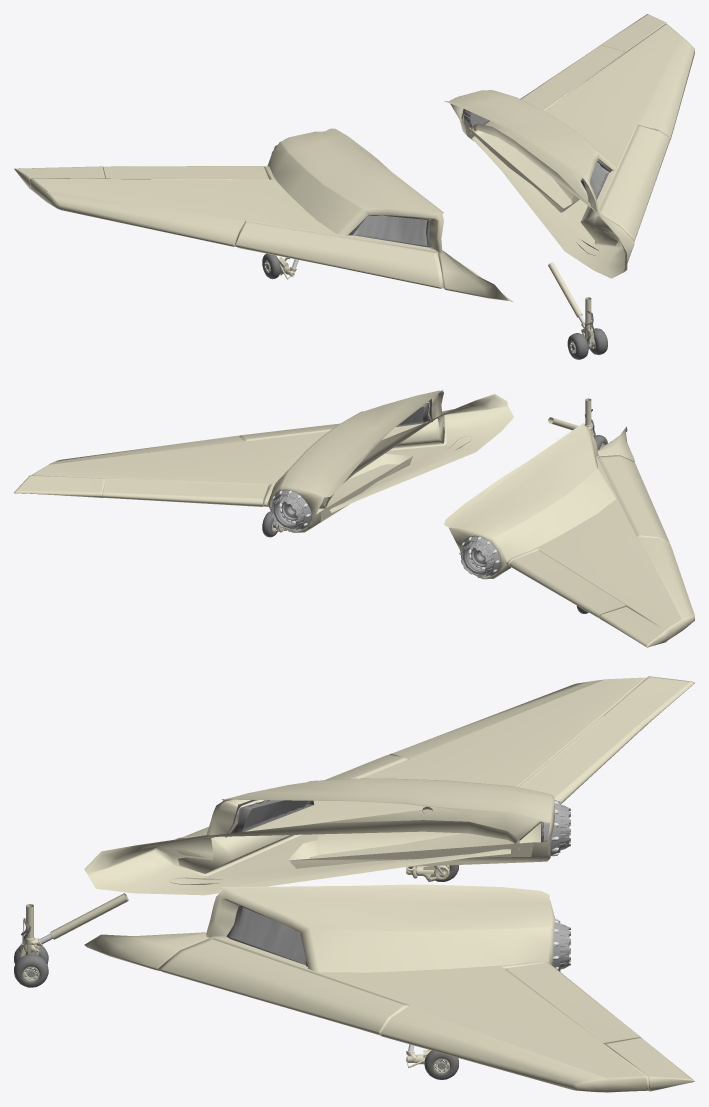
File: AircraftWingsJet.fbx
The picture shows the model from 3 angles, top to bottom: view 1: azimuth 30°, elevation 25°; view 2: azimuth 150°, elevation 25°; view 3: azimuth 270°, elevation 25°; orthographic projection. The views are drawn at different scales.
Parts seen in each view (by area): view 1: AircraftWingsJetWing, AircraftWingsJetSlatRight, AircraftWingsJetSlatLeft, AircraftWingsJetFlapLeft, AircraftWingsJetFlapRight, AircraftWingsJetAileronLeft, AircraftWingsJetAileronRight, AircraftWingsJetGearFront, AircraftWingsJetGearWheelFront; view 2: AircraftWingsJetWing, AircraftWingsJetFlapLeft, AircraftWingsJetFlapRight, AircraftWingsJetSlatRight, AircraftWingsJetAileronLeft, AircraftWingsJetAileronRight, AircraftWingsJetSlatLeft, AircraftWingsJetGearFront; view 3: AircraftWingsJetWing, AircraftWingsJetSlatLeft, AircraftWingsJetFlapRight, AircraftWingsJetFlapLeft, AircraftWingsJetSlatRight, AircraftWingsJetAileronRight, AircraftWingsJetAileronLeft, AircraftWingsJetGearFront, AircraftWingsJetGearWheelFront, AircraftWingsJetGearWheelLeft.
Part boxes in pixels (bbox=[...]): AircraftWingsJetWing: bbox=[30, 23, 694, 302]; AircraftWingsJetSlatRight: bbox=[235, 221, 443, 288]; AircraftWingsJetSlatLeft: bbox=[580, 125, 669, 245]; AircraftWingsJetFlapLeft: bbox=[520, 45, 625, 110]; AircraftWingsJetFlapRight: bbox=[102, 166, 269, 179]; AircraftWingsJetAileronLeft: bbox=[600, 14, 666, 51]; AircraftWingsJetAileronRight: bbox=[14, 166, 105, 189]; AircraftWingsJetGearFront: bbox=[548, 262, 594, 349]; AircraftWingsJetGearWheelFront: bbox=[567, 328, 607, 359]; AircraftWingsJetWing: bbox=[32, 389, 694, 640]; AircraftWingsJetFlapLeft: bbox=[102, 478, 268, 506]; AircraftWingsJetFlapRight: bbox=[509, 550, 625, 618]; AircraftWingsJetSlatRight: bbox=[598, 455, 669, 543]; AircraftWingsJetAileronLeft: bbox=[14, 475, 105, 497]; AircraftWingsJetAileronRight: bbox=[599, 605, 666, 647]; AircraftWingsJetSlatLeft: bbox=[239, 418, 444, 448]; AircraftWingsJetGearFront: bbox=[548, 398, 595, 435]; AircraftWingsJetWing: bbox=[84, 677, 649, 1092]; AircraftWingsJetSlatLeft: bbox=[157, 938, 408, 1035]; AircraftWingsJetFlapRight: bbox=[518, 716, 643, 804]; AircraftWingsJetFlapLeft: bbox=[505, 962, 640, 1043]; AircraftWingsJetSlatRight: bbox=[177, 755, 408, 873]; AircraftWingsJetAileronRight: bbox=[603, 676, 694, 729]; AircraftWingsJetAileronLeft: bbox=[604, 1037, 694, 1091]; AircraftWingsJetGearFront: bbox=[19, 893, 128, 957]; AircraftWingsJetGearWheelFront: bbox=[14, 945, 48, 987]; AircraftWingsJetGearWheelLeft: bbox=[424, 1050, 458, 1079].
Size of the model in its own units: 1715 by 274 by 1231.
